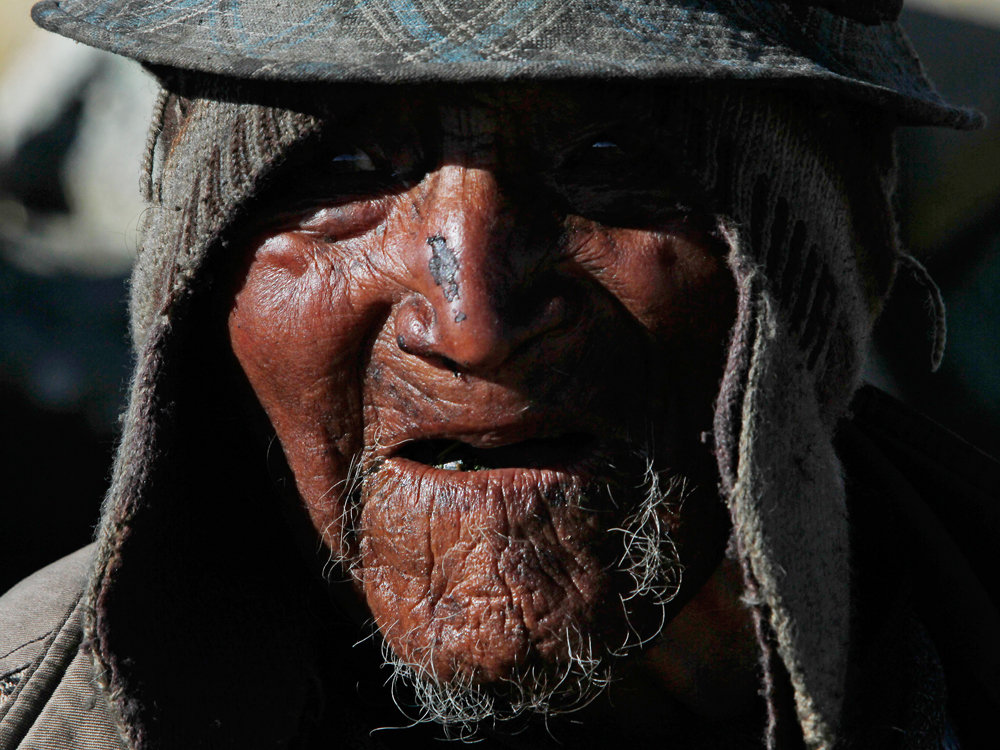person: (41, 4, 955, 750)
